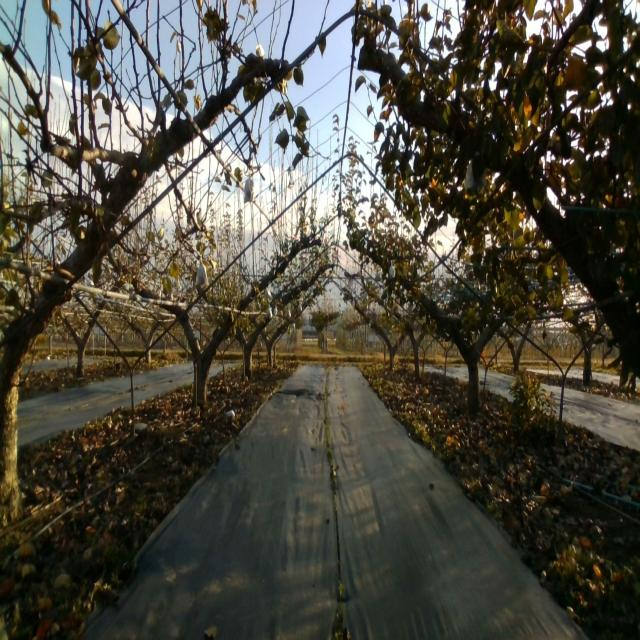pearbags: (195, 255, 210, 288), (243, 172, 254, 204)
